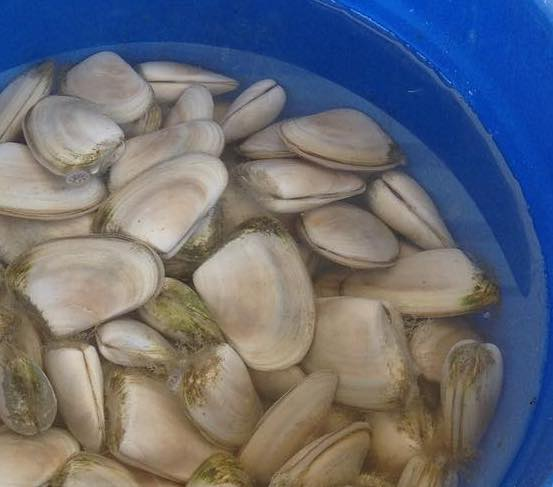tuatua: (189, 215, 316, 369), (7, 229, 169, 340), (93, 148, 231, 262), (101, 363, 220, 475), (313, 291, 412, 415), (337, 246, 504, 318), (278, 104, 408, 177), (19, 91, 124, 178), (1, 140, 110, 219), (181, 340, 257, 449), (441, 337, 503, 467), (42, 340, 109, 460), (235, 159, 370, 216), (297, 198, 398, 274), (363, 165, 454, 249), (270, 421, 379, 487), (60, 48, 155, 122), (143, 273, 222, 352), (223, 75, 289, 151), (135, 59, 241, 102), (1, 57, 55, 140)
